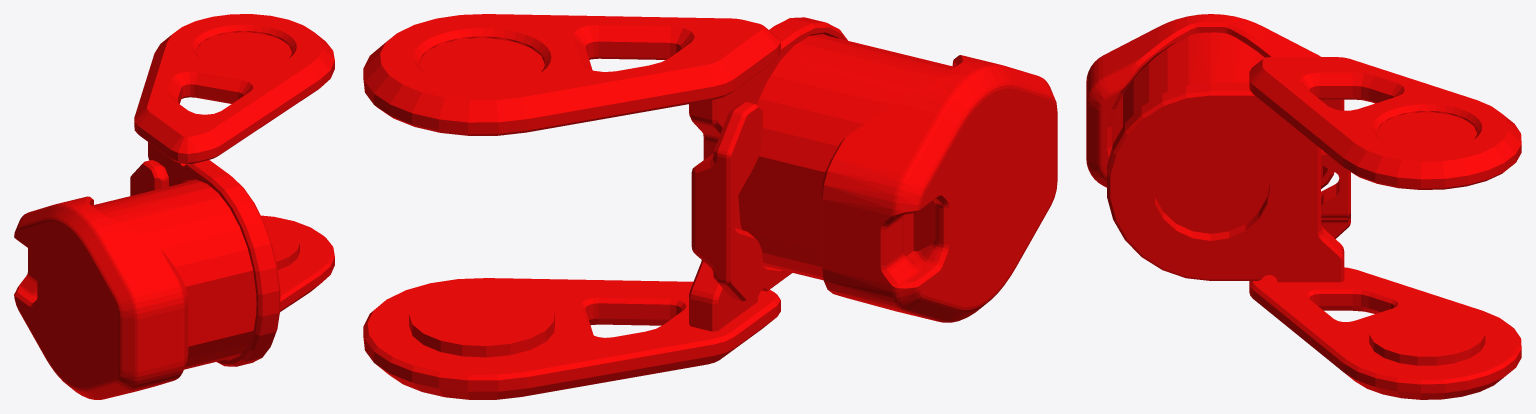
The picture shows the model from 3 angles, left to right: view 1: azimuth 30°, elevation 25°; view 2: azimuth 150°, elevation 25°; view 3: azimuth 270°, elevation 25°; orthographic projection. The views are drawn at different scales.
Parts seen in each view (by area): view 1: link_4.STL; view 2: link_4.STL; view 3: link_4.STL.
Boxes of the visible parts, x1=… form: link_4.STL: x1=14, y1=14, x2=334, y2=399; link_4.STL: x1=363, y1=14, x2=1057, y2=399; link_4.STL: x1=1086, y1=14, x2=1521, y2=399.
Size of the model in its own units: 0.1304 by 0.079 by 0.1308.
1 material, 1 textured.
